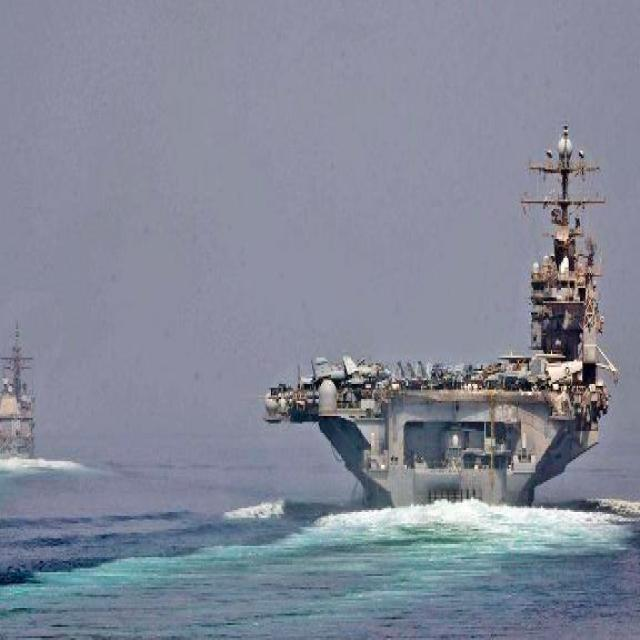navalvessels: (260, 121, 604, 520), (0, 318, 37, 463)
